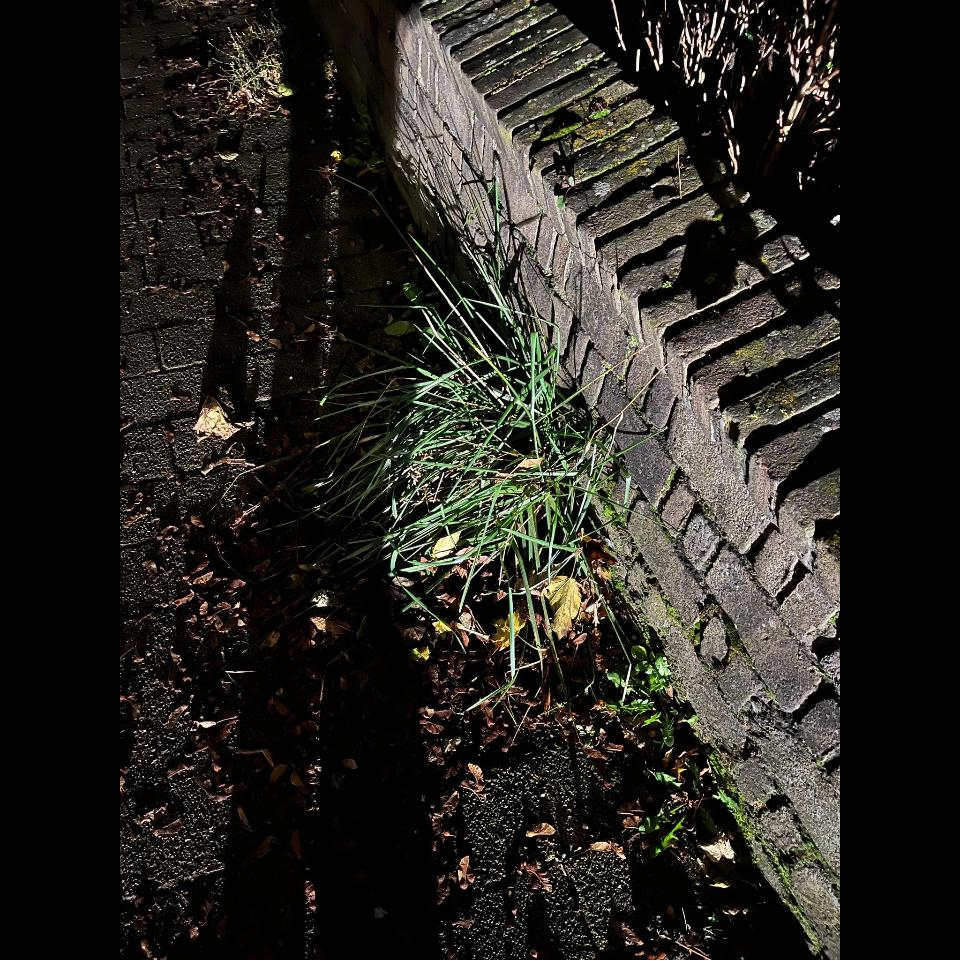weed: (315, 244, 615, 682), (218, 17, 292, 113), (607, 646, 676, 747), (638, 805, 684, 856)
